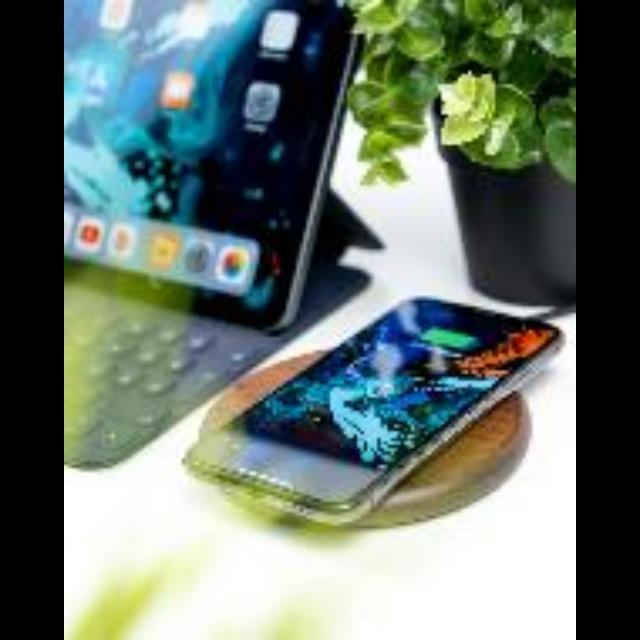phone: (227, 283, 561, 499)
